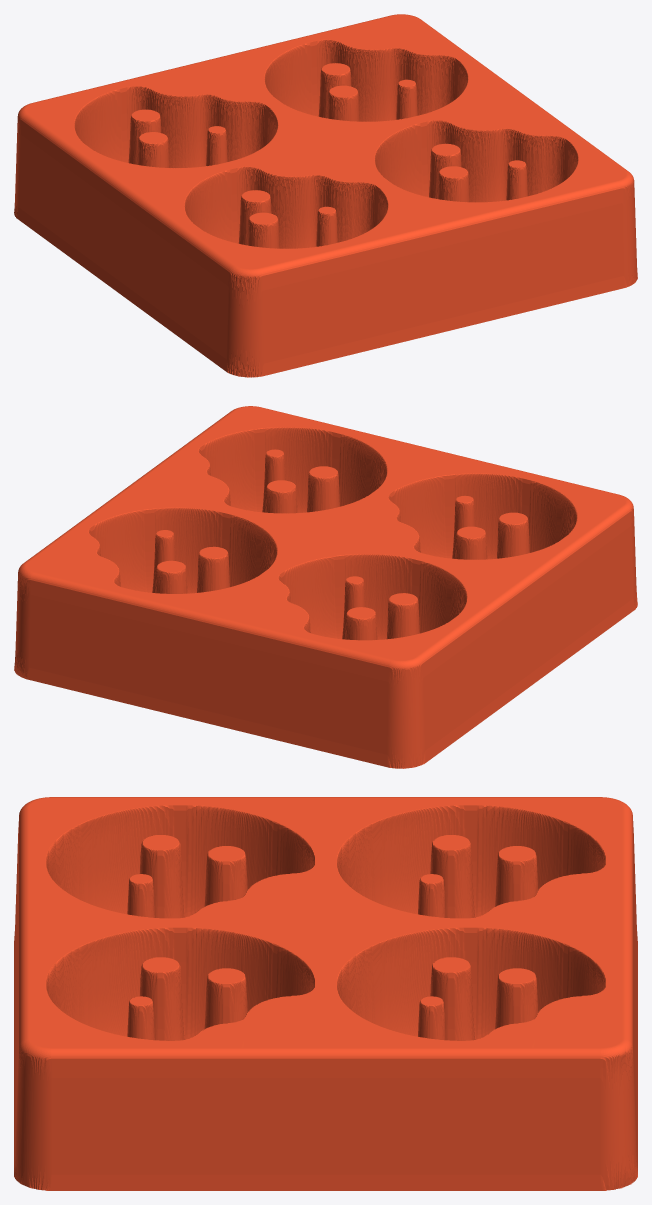
File: mold.glb
3 views of the same model, one above another, from view 1: azimuth 30°, elevation 25°; view 2: azimuth 150°, elevation 25°; view 3: azimuth 270°, elevation 25° (orthographic). The views are drawn at different scales.
Parts seen in each view (by area): view 1: geometry_0; view 2: geometry_0; view 3: geometry_0.
Boxes of the visible parts, x1=… form: geometry_0: x1=14, y1=14, x2=637, y2=377; geometry_0: x1=14, y1=406, x2=637, y2=768; geometry_0: x1=14, y1=797, x2=637, y2=1190.
Bounding box in the file's own units: 0.1488 × 0.036 × 0.1493.
